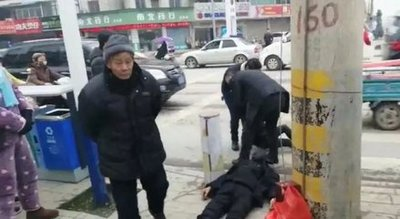fall: (180, 146, 291, 219)
